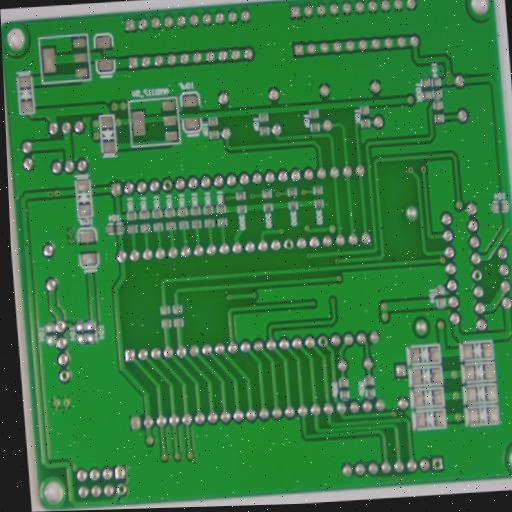missing_hole: (315, 332, 329, 350), (470, 268, 484, 282), (57, 369, 70, 383), (282, 237, 294, 252), (432, 455, 443, 471), (161, 179, 173, 193)
